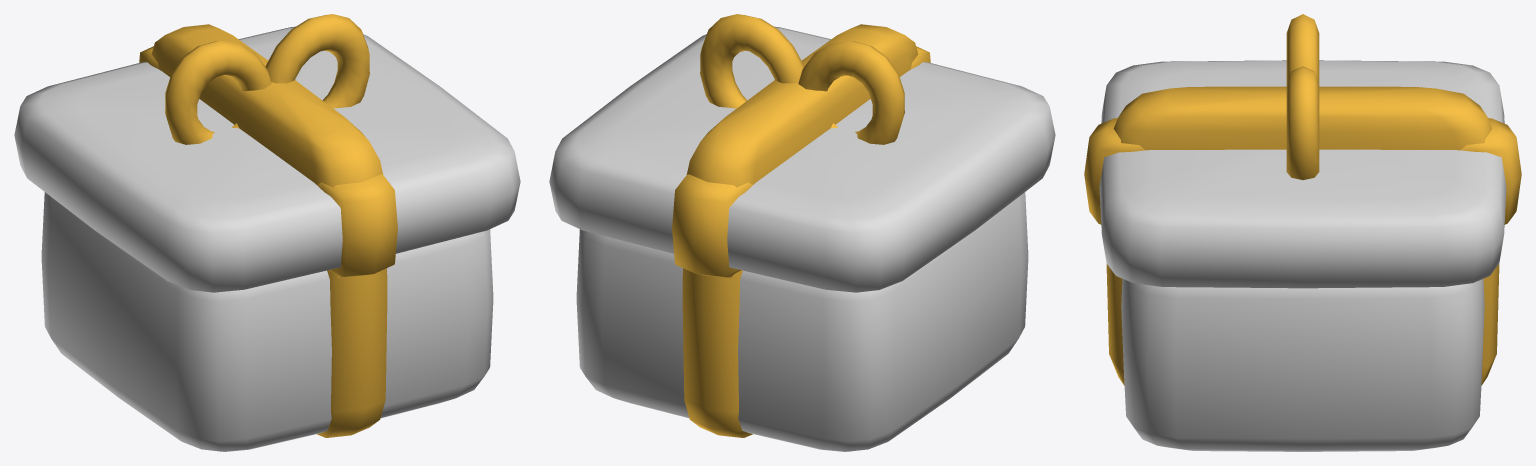
File: gift.glb
The picture shows the model from 3 angles, left to right: view 1: azimuth 30°, elevation 25°; view 2: azimuth 150°, elevation 25°; view 3: azimuth 270°, elevation 25°; orthographic projection.
Visible parts, largest first — view 1: gift; view 2: gift; view 3: gift.
Boxes of the visible parts, x1,y1,x2,y2 form: gift: (14,14,520,451); gift: (549,14,1055,451); gift: (1084,14,1521,451).
Size of the model in its own units: 1 by 0.9556 by 1.07.
